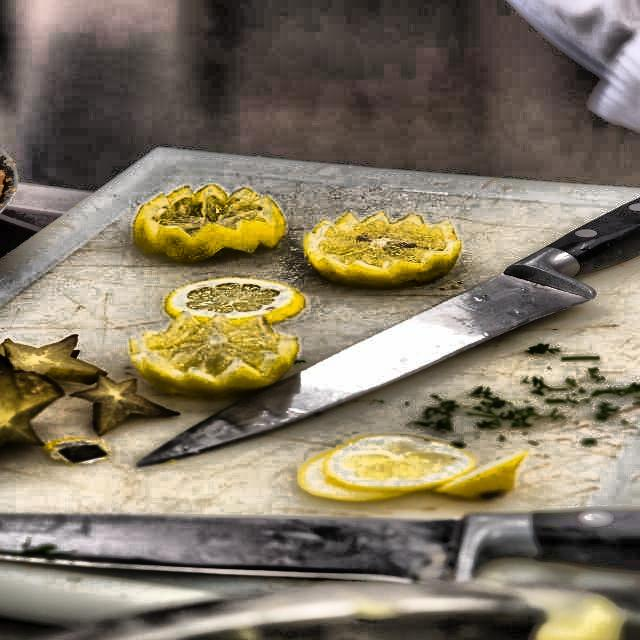knife: (137, 190, 640, 476), (0, 507, 640, 588)
